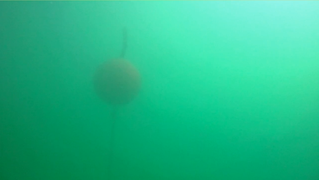buoy: (91, 58, 142, 106)
